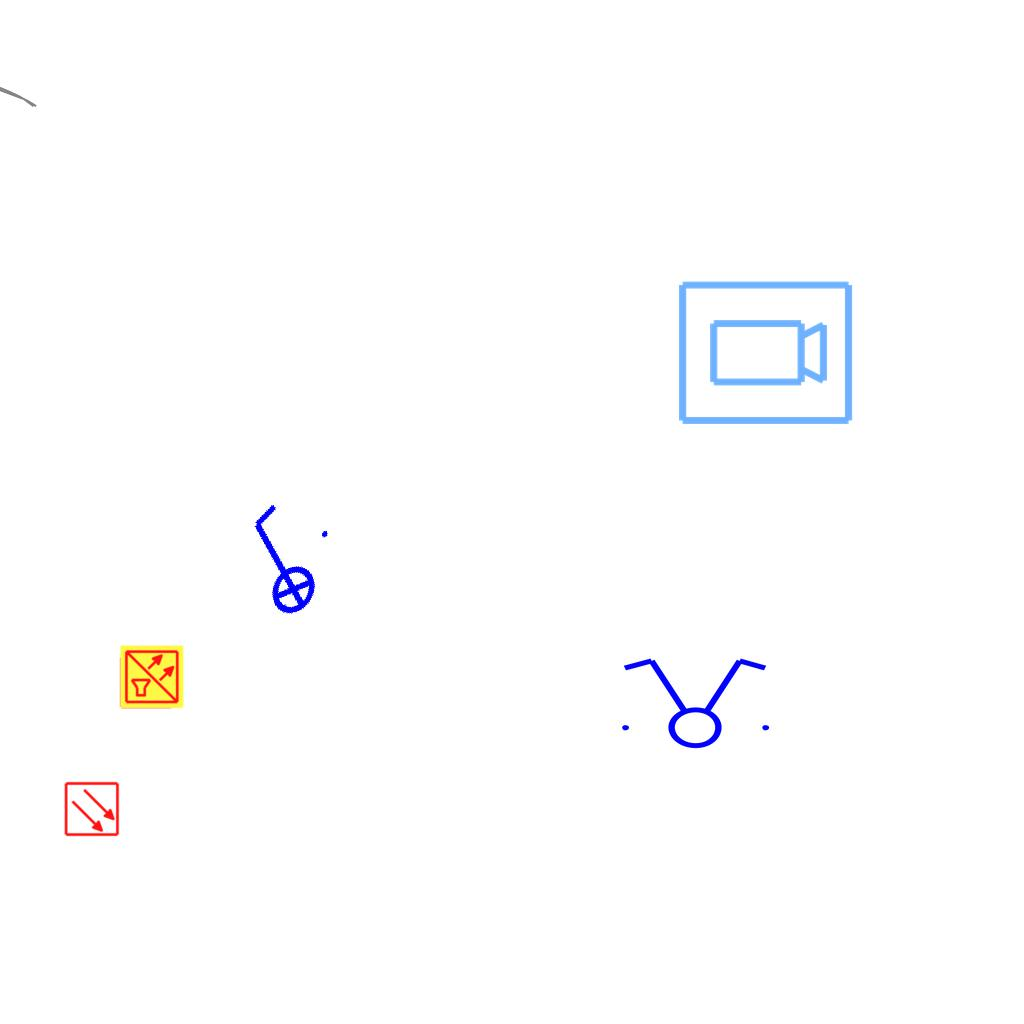Ausschalter_beleuchtet: (209, 489, 349, 635)
KFO_Kamera_mit_Festobjektiv: (674, 277, 856, 431)
OKW_Multisensormelder_(Kombination_optischer_Rauch-Kahlenmonoxid_Waerme-Melder): (119, 644, 185, 710)
RMO_Rauchmelder_optischer: (64, 781, 120, 837)
Serienschalter: (610, 654, 778, 750)
